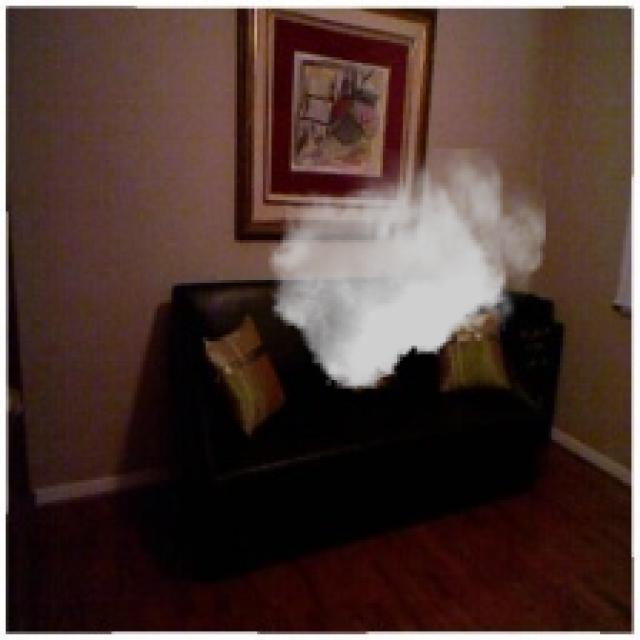Smoke: (268, 148, 546, 388)
